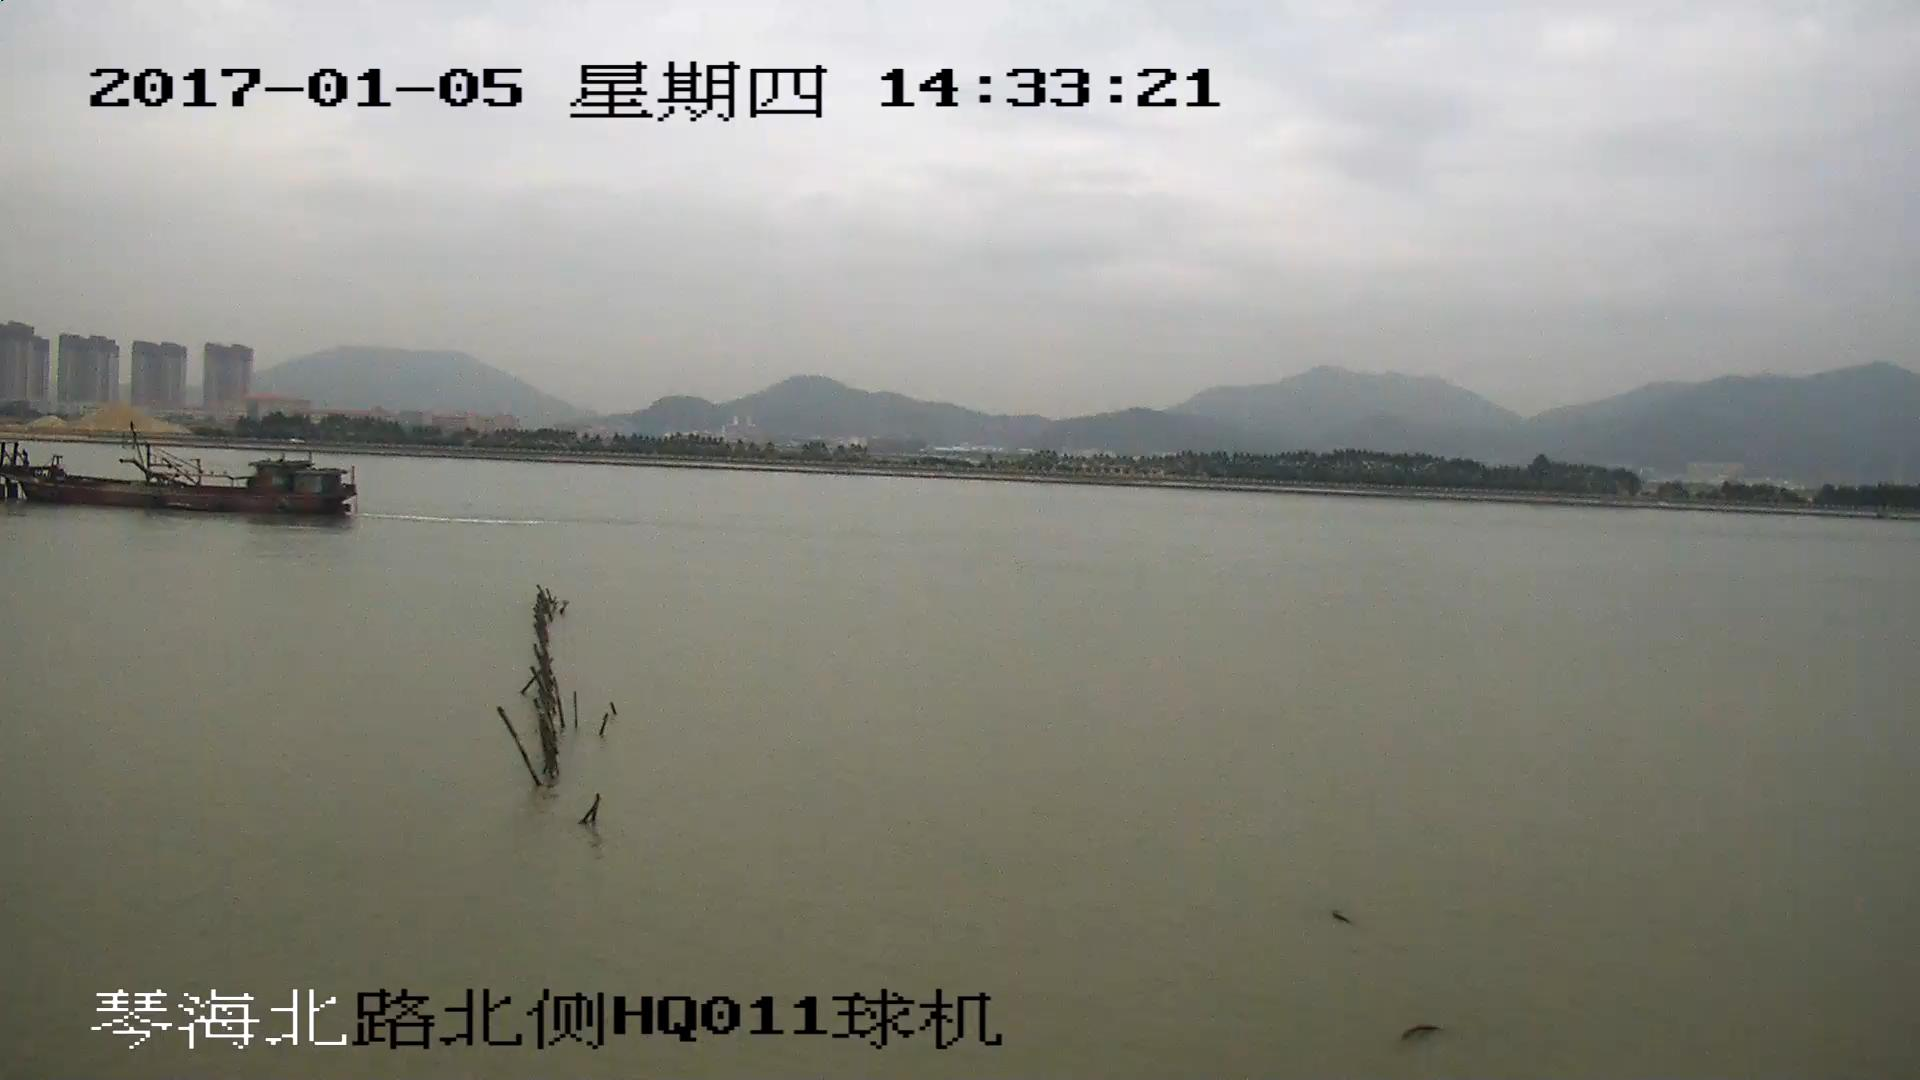fishing boat: (1, 434, 359, 519)
